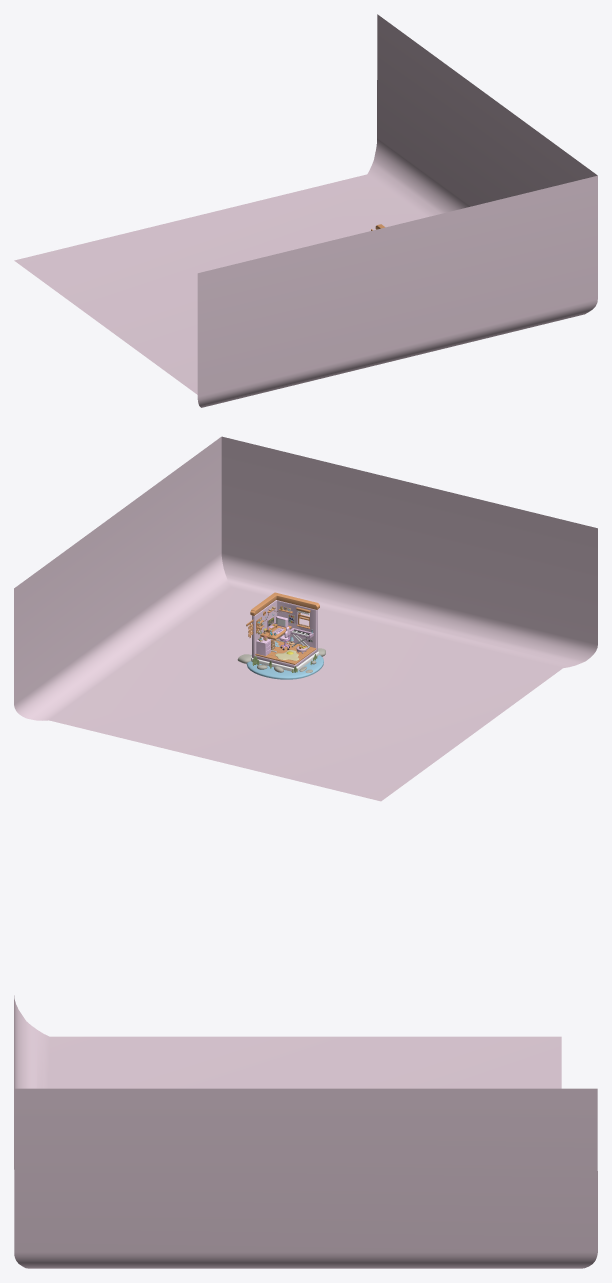
The model's file is RoomPortfolioPlain10-v1.glb.
The picture shows the model from 3 angles, top to bottom: view 1: azimuth 30°, elevation 25°; view 2: azimuth 150°, elevation 25°; view 3: azimuth 270°, elevation 25°; orthographic projection. The views are drawn at different scales.
Visible parts, largest first — view 1: bg; view 2: bg, Room; view 3: bg.
Boxes of the visible parts, x1,y1,x2,y2 form: bg: (14,14,597,407); bg: (14,436,597,801); Room: (246,592,323,679); bg: (14,995,597,1268).
Size of the model in its own units: 66.22 by 23.15 by 63.29.
Materials: 82 (5 with a texture image).
